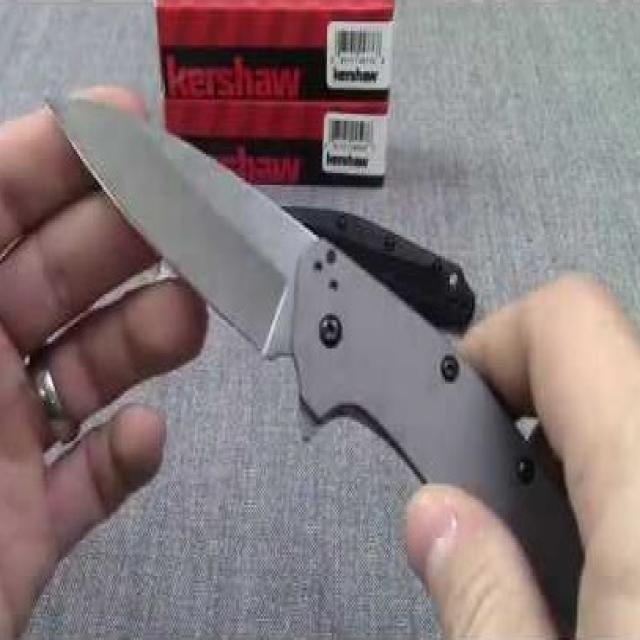knife: (38, 76, 476, 480)
